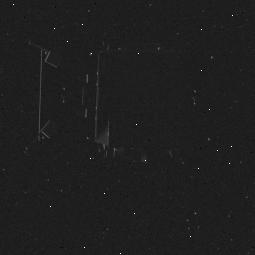proba_2: (21, 31, 179, 153)
